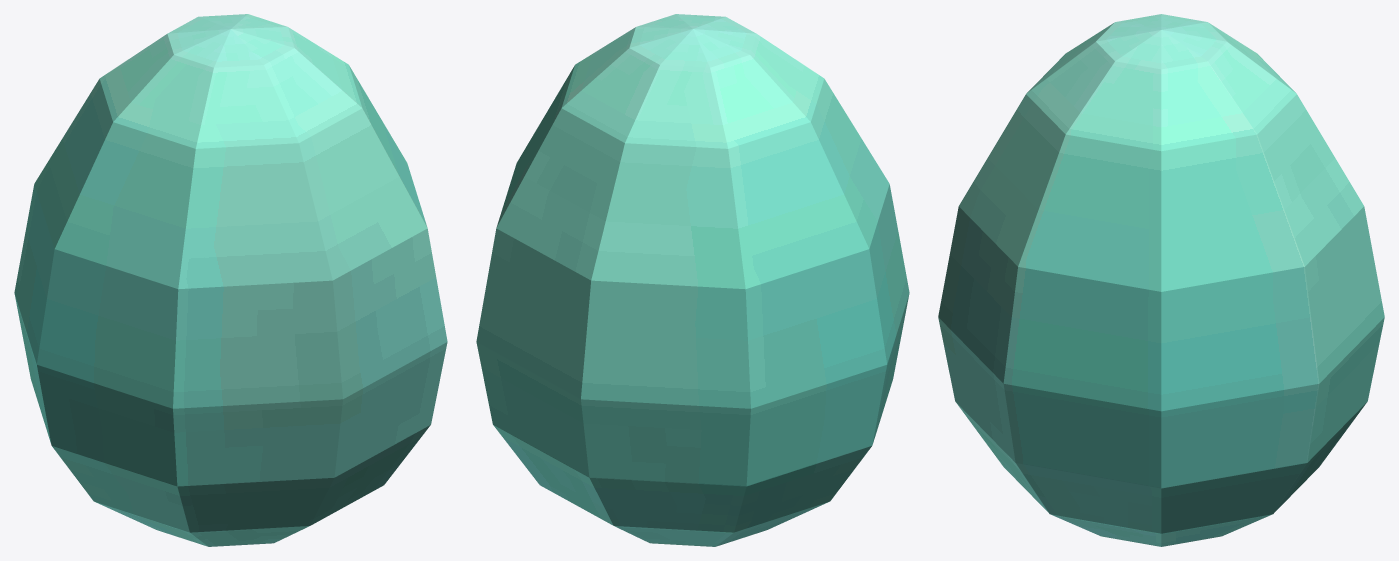
File: item_egg_easter_blue.glb
3 renders of one model, left to right at view 1: azimuth 30°, elevation 25°; view 2: azimuth 150°, elevation 25°; view 3: azimuth 270°, elevation 25°, orthographic.
Visible parts, largest first — view 1: Egg_C; view 2: Egg_C; view 3: Egg_C.
Boxes of the visible parts, box(x1,y1,x2,y2) form: Egg_C: box(14, 14, 447, 546); Egg_C: box(476, 14, 909, 546); Egg_C: box(938, 14, 1384, 546).
Bounding box in the file's own units: 0.2454 × 0.3009 × 0.2454.
Materials: 1 (1 with a texture image).
